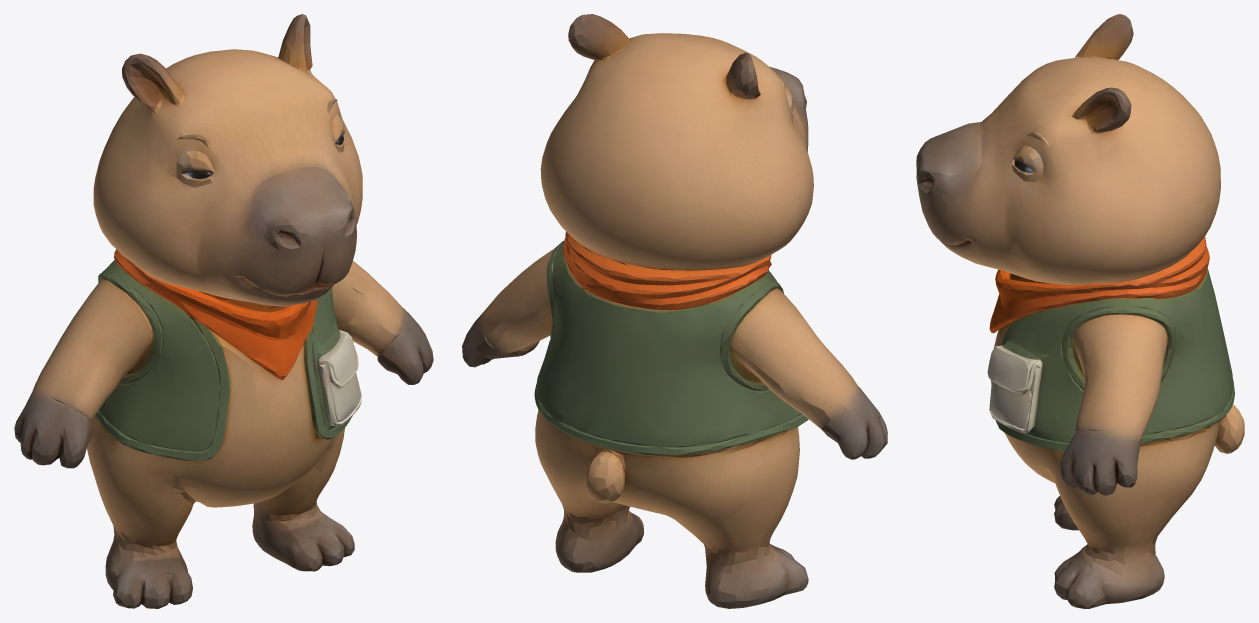
File: pumpkin-capybara-driver-raw.glb
The picture shows the model from 3 angles, left to right: view 1: azimuth 30°, elevation 25°; view 2: azimuth 150°, elevation 25°; view 3: azimuth 270°, elevation 25°; orthographic projection. The views are drawn at different scales.
Parts seen in each view (by area): view 1: model; view 2: model; view 3: model.
Boxes of the visible parts, x1=… form: model: x1=14, y1=14, x2=433, y2=608; model: x1=462, y1=14, x2=887, y2=608; model: x1=916, y1=14, x2=1244, y2=608.
Size of the model in its own units: 1.52 by 1.9 by 1.12.
Materials: 1 (1 with a texture image).
